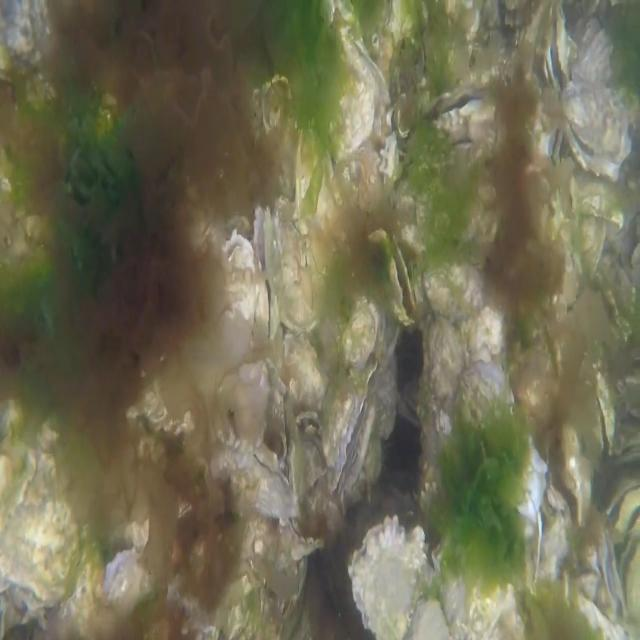Oyster-Closed: (431, 517, 526, 640), (323, 359, 379, 498), (225, 447, 301, 528), (280, 510, 326, 563)
Oyster-Indeterminate: (442, 360, 548, 517), (0, 422, 80, 606), (345, 514, 425, 640), (319, 0, 375, 159), (294, 126, 347, 265), (423, 312, 468, 466), (271, 190, 318, 334), (341, 292, 401, 374), (281, 325, 328, 421), (421, 257, 491, 321), (570, 171, 624, 226), (102, 550, 148, 612), (574, 214, 606, 282)
Oyster-Open: (559, 18, 639, 180), (538, 413, 592, 532), (236, 359, 288, 474), (422, 85, 497, 163), (222, 227, 258, 331), (251, 202, 275, 341), (600, 475, 640, 542), (388, 242, 419, 327), (598, 528, 626, 622), (544, 0, 570, 94), (593, 372, 615, 458), (613, 435, 640, 464)
